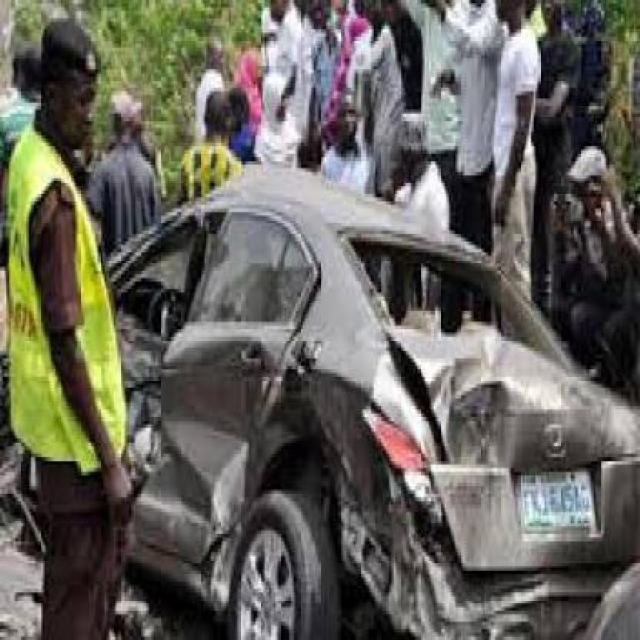accident: (86, 157, 639, 640)
